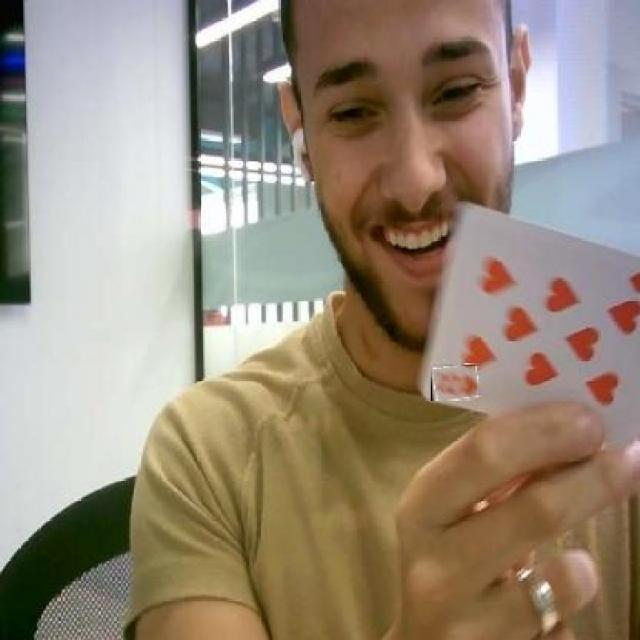8H: (432, 365, 478, 400)
